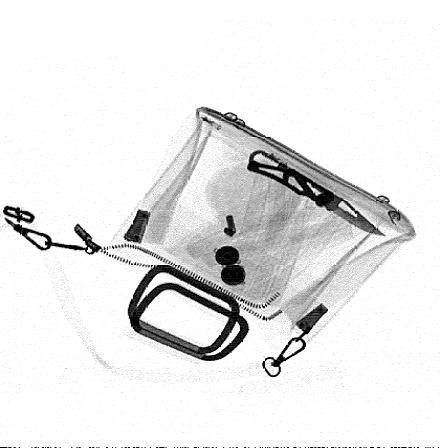Knife: (247, 149, 387, 237)
